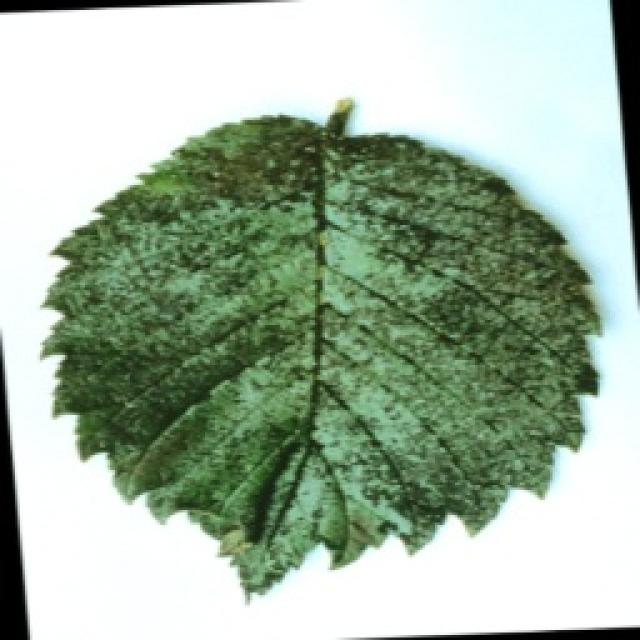Sooty Mold: (38, 95, 602, 600)
